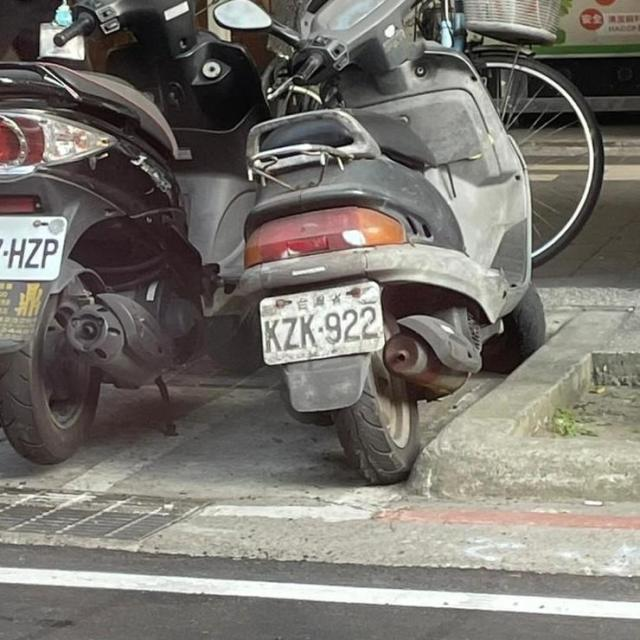W: (250, 273, 397, 368), (0, 201, 74, 288)
